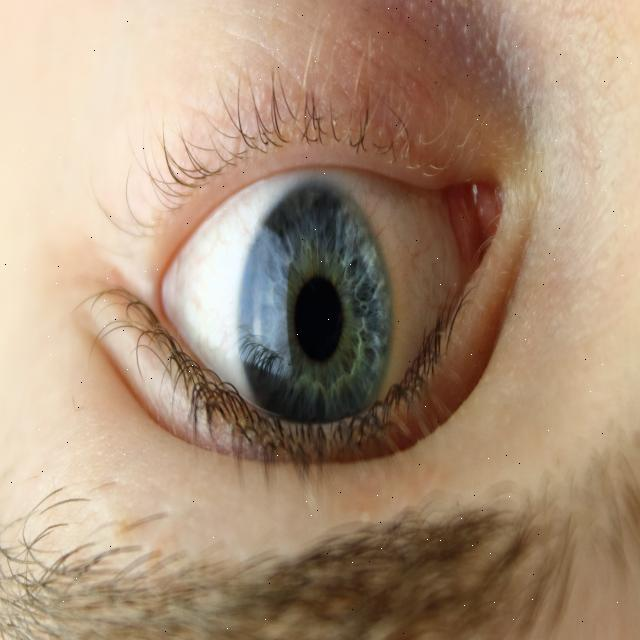Normal: (240, 178, 398, 452)
